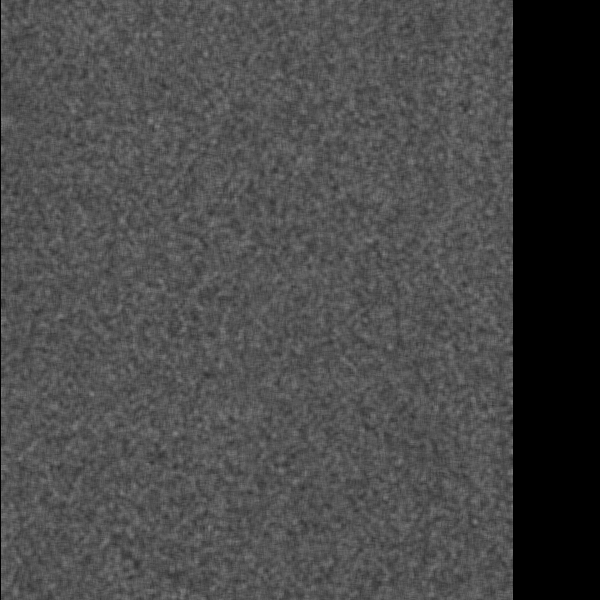spark: (63, 375, 124, 428)
